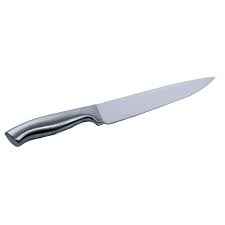kuchillu: (3, 72, 218, 150)
